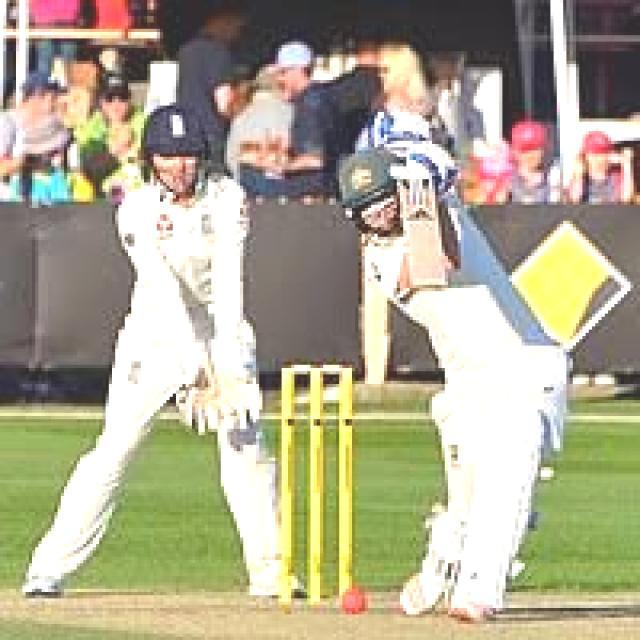bat: (395, 174, 449, 298)
toe: (404, 280, 446, 294)
